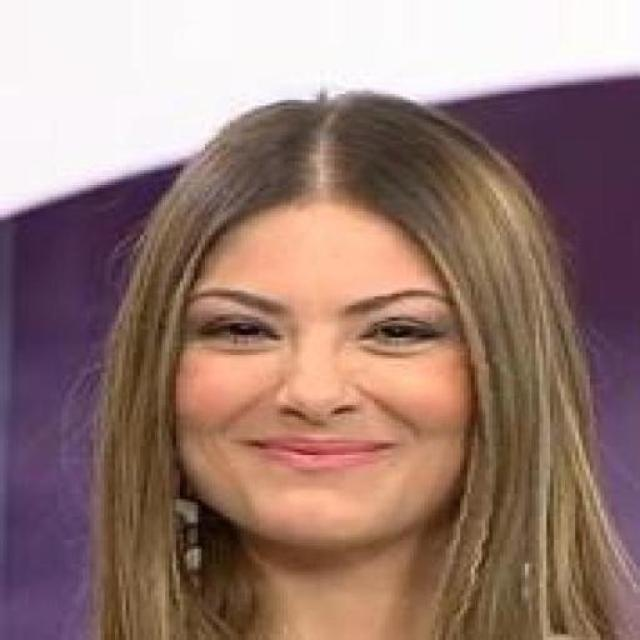bareface: (172, 206, 462, 509)
